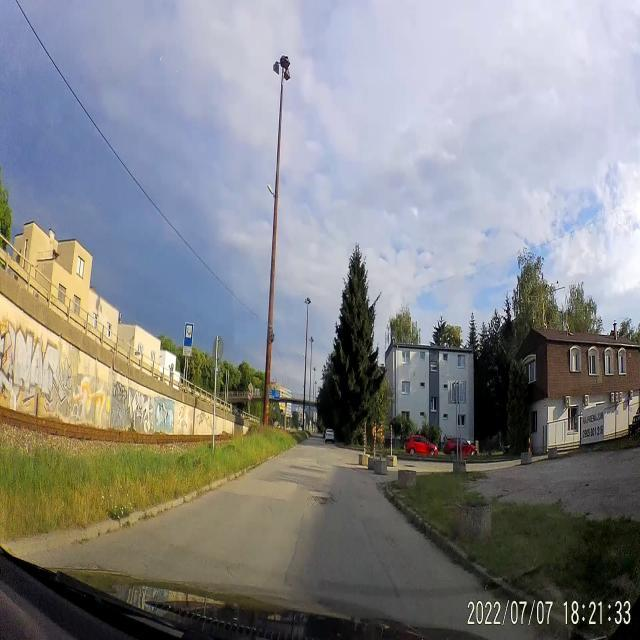Pothole: (305, 484, 340, 512)
